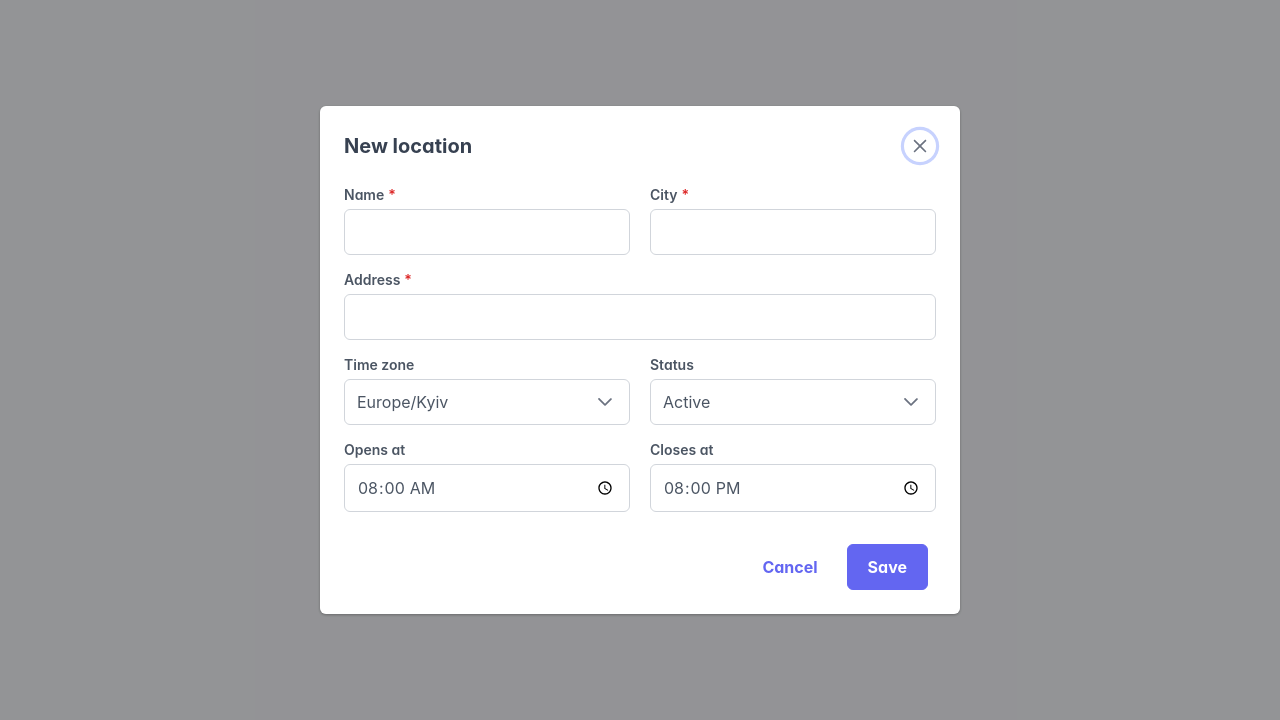
Test: LocationFormDialog › refuses closing hours that come before opening hours
Type "Test Space" into the field labelled "Name*".
click(487, 232); type("Test Space")  # box 344,209 -> 630,255
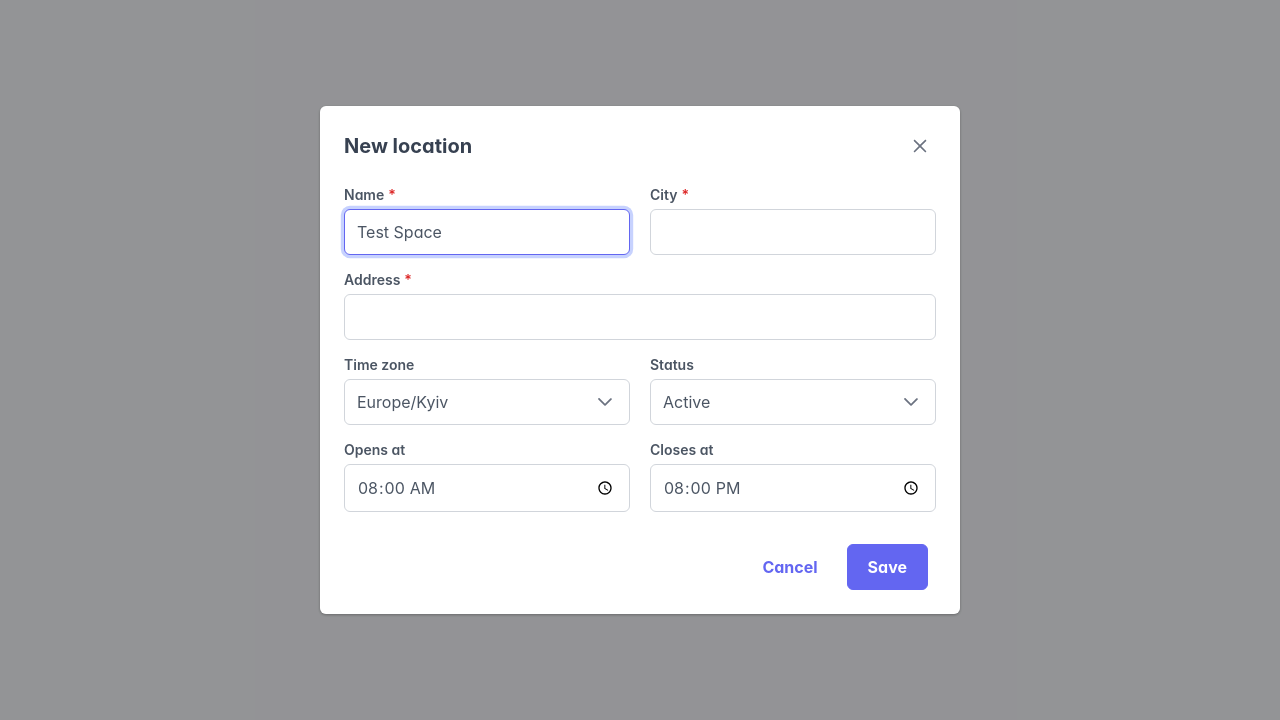
Type "Kyiv" into the field labelled "City*".
click(793, 232); type("Kyiv")  # box 650,209 -> 936,255
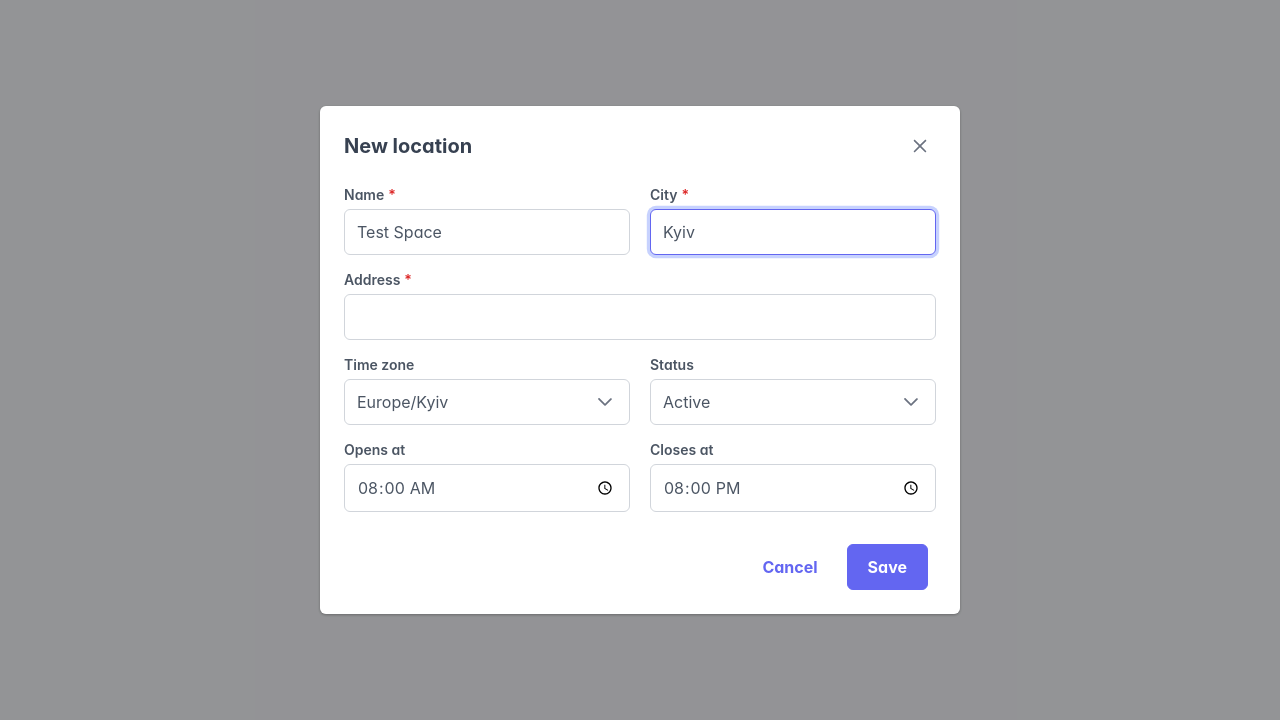
Type "1 Test Street" into the field labelled "Address*".
click(640, 317); type("1 Test Street")  # box 344,294 -> 936,340
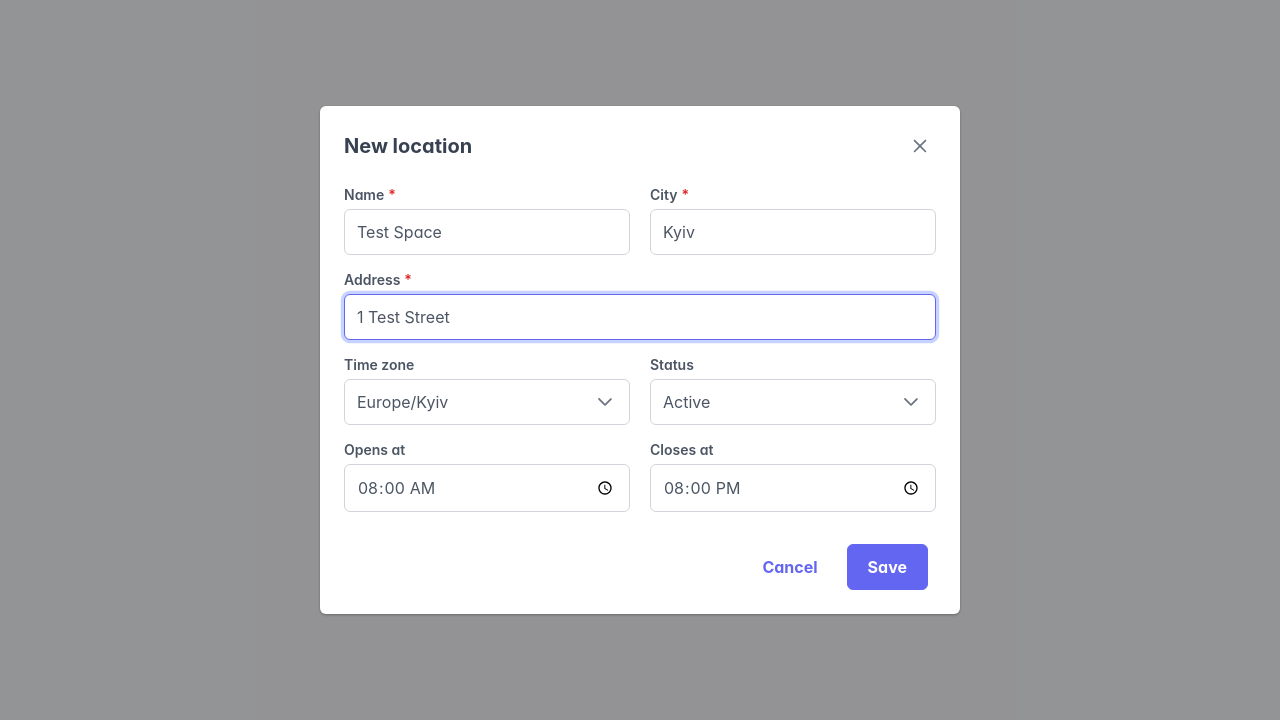
Replace the text in the time field labelled "Closes at" with "07:00" at (793, 488), box 650,464 -> 936,512
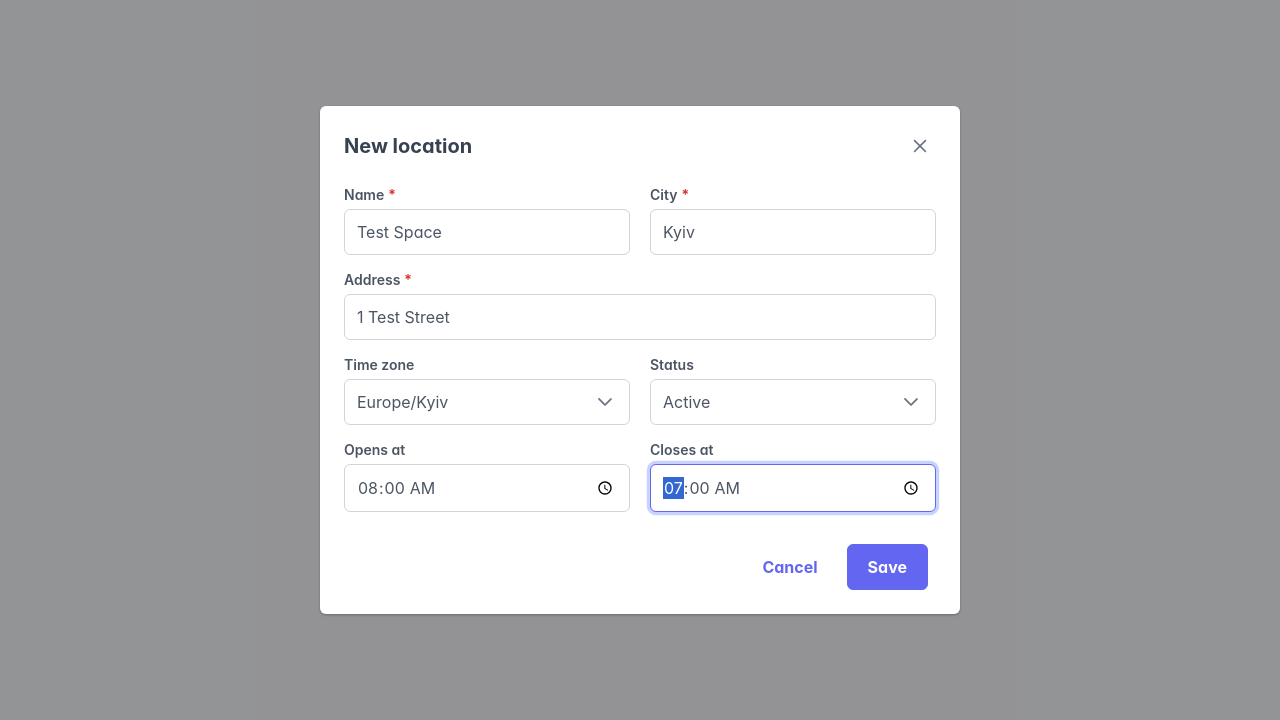
Click the button "Save".
click(887, 567)  # box 847,544 -> 928,590
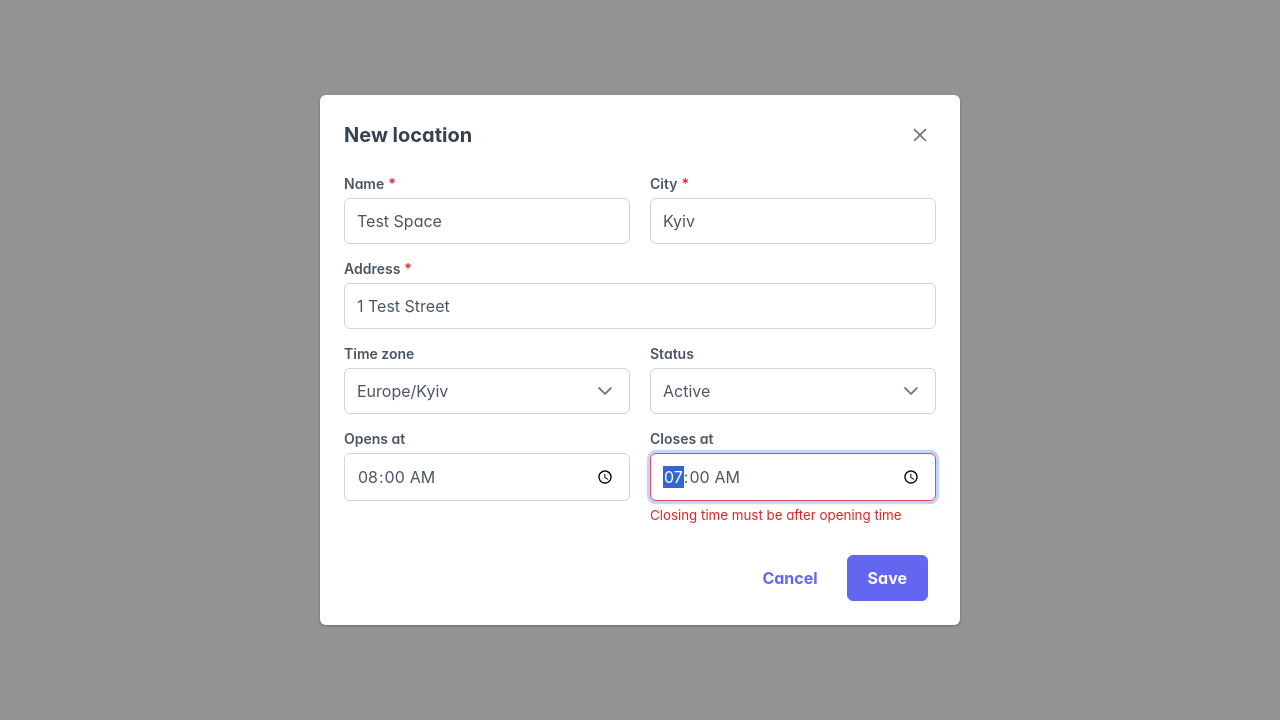
Expected: the text "Closing time must be after opening time" is shown, 650,507 -> 936,523
